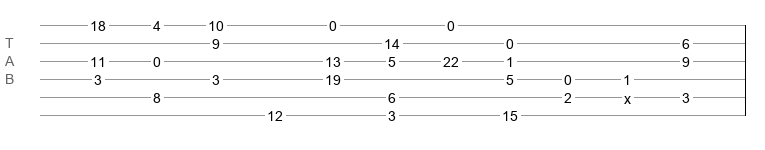0: (153, 54, 161, 64), (329, 18, 337, 28), (447, 18, 455, 28), (506, 36, 514, 46), (564, 72, 572, 82)
1: (506, 54, 514, 64), (623, 72, 631, 82)
10: (208, 18, 224, 28)
11: (90, 54, 106, 64)
12: (267, 108, 283, 118)
13: (325, 54, 341, 64)
14: (384, 36, 400, 46)
15: (502, 108, 518, 118)
18: (90, 18, 106, 28)
19: (325, 72, 341, 82)
2: (564, 90, 572, 100)
22: (443, 54, 459, 64)
3: (94, 72, 102, 82), (212, 72, 220, 82), (388, 108, 396, 118), (682, 90, 690, 100)
4: (153, 18, 161, 28)
5: (388, 54, 396, 64), (506, 72, 514, 82)
6: (388, 90, 396, 100), (682, 36, 690, 46)
8: (153, 90, 161, 100)
9: (212, 36, 220, 46), (682, 54, 690, 64)
x: (624, 91, 631, 99)
